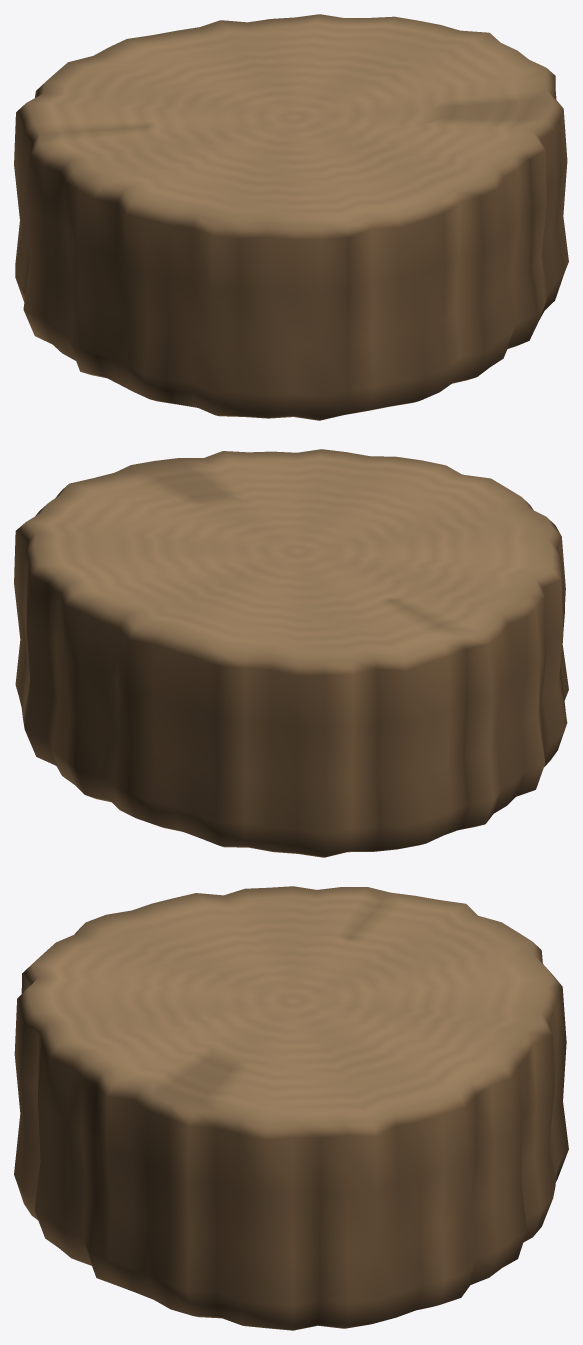
File: work_block.glb
The picture shows the model from 3 angles, top to bottom: view 1: azimuth 30°, elevation 25°; view 2: azimuth 150°, elevation 25°; view 3: azimuth 270°, elevation 25°; orthographic projection. The views are drawn at different scales.
Parts seen in each view (by area): view 1: work_block; view 2: work_block; view 3: work_block.
Part boxes in pixels (x1,y1,x2,y2): work_block: (14,14,568,420); work_block: (14,449,568,857); work_block: (14,886,568,1330).
Size of the model in its own units: 0.5158 by 0.2 by 0.478.
